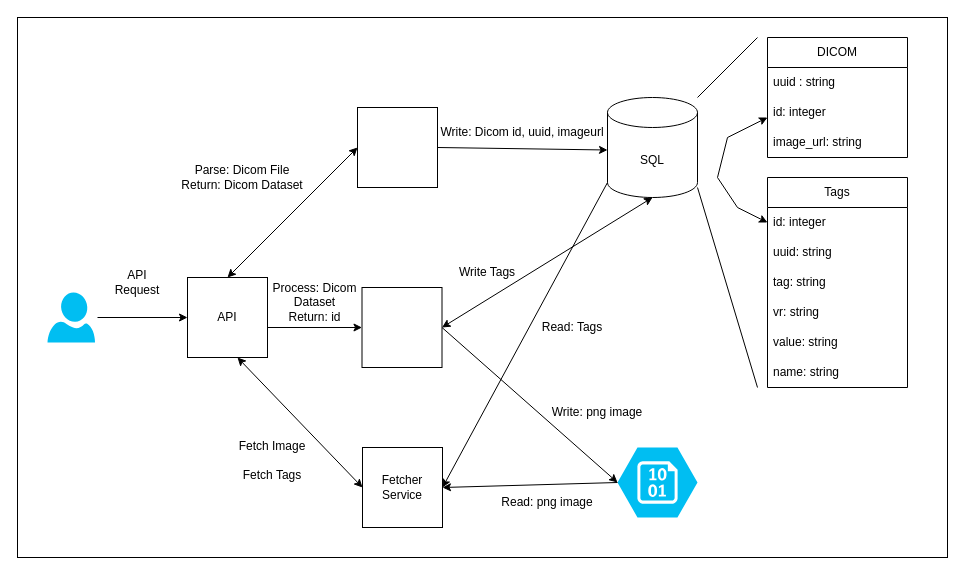
Some shapes in this 965 by 575 pixel diagram are drawn without their labels. The shapes that lost their labels are listed below. From the top down, each one's centre as x and y in pixels, then its label:
At [397,147]: "Parser Service".
At [401,327]: "Processor Service".
